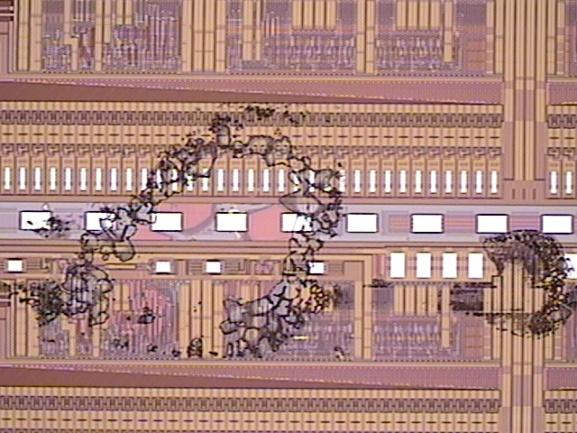PO CONTAMINATION: (2, 103, 399, 367)
